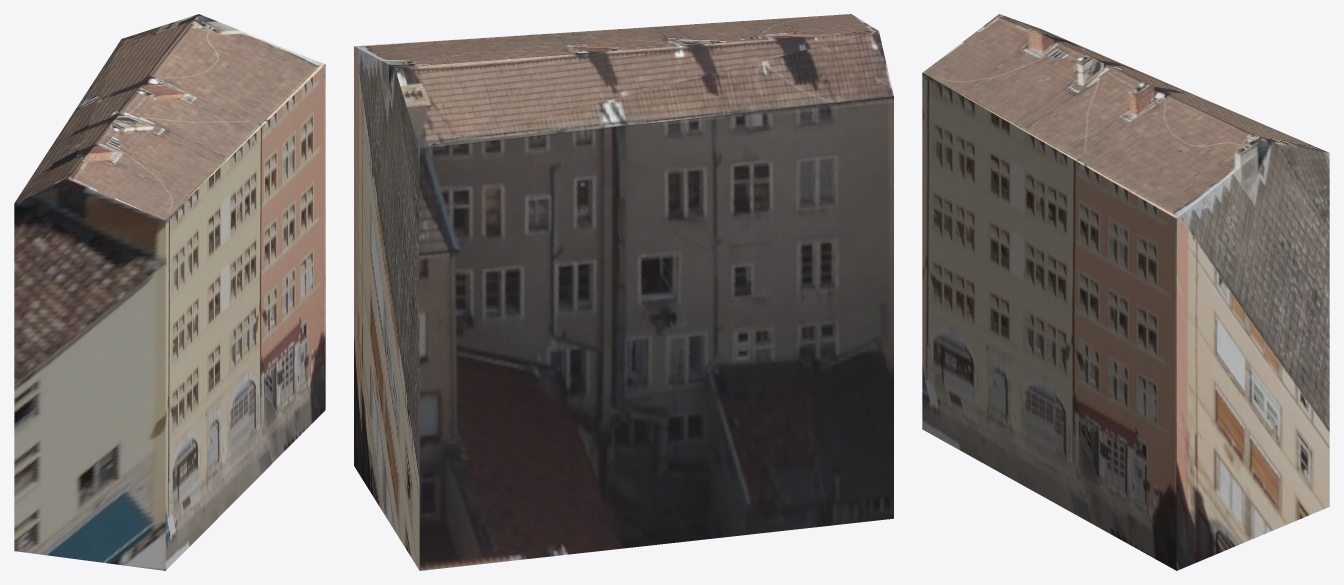
3 renders of one model, left to right at view 1: azimuth 30°, elevation 25°; view 2: azimuth 150°, elevation 25°; view 3: azimuth 270°, elevation 25°, orthographic. The views are drawn at different scales.
Visible parts, largest first — view 1: Z_UP; view 2: Z_UP; view 3: Z_UP.
Part boxes in pixels (x1=…): Z_UP: x1=14, y1=14, x2=325, y2=570; Z_UP: x1=354, y1=14, x2=893, y2=570; Z_UP: x1=922, y1=14, x2=1329, y2=570.
Bounding box in the file's own units: 22.45 × 21.67 × 20.57.
Materials: 2 (1 with a texture image).
